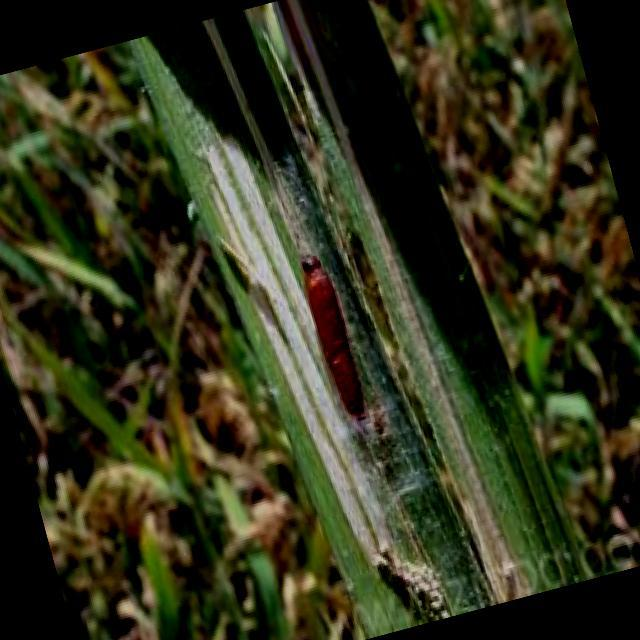leaf folder: (301, 256, 366, 421)
